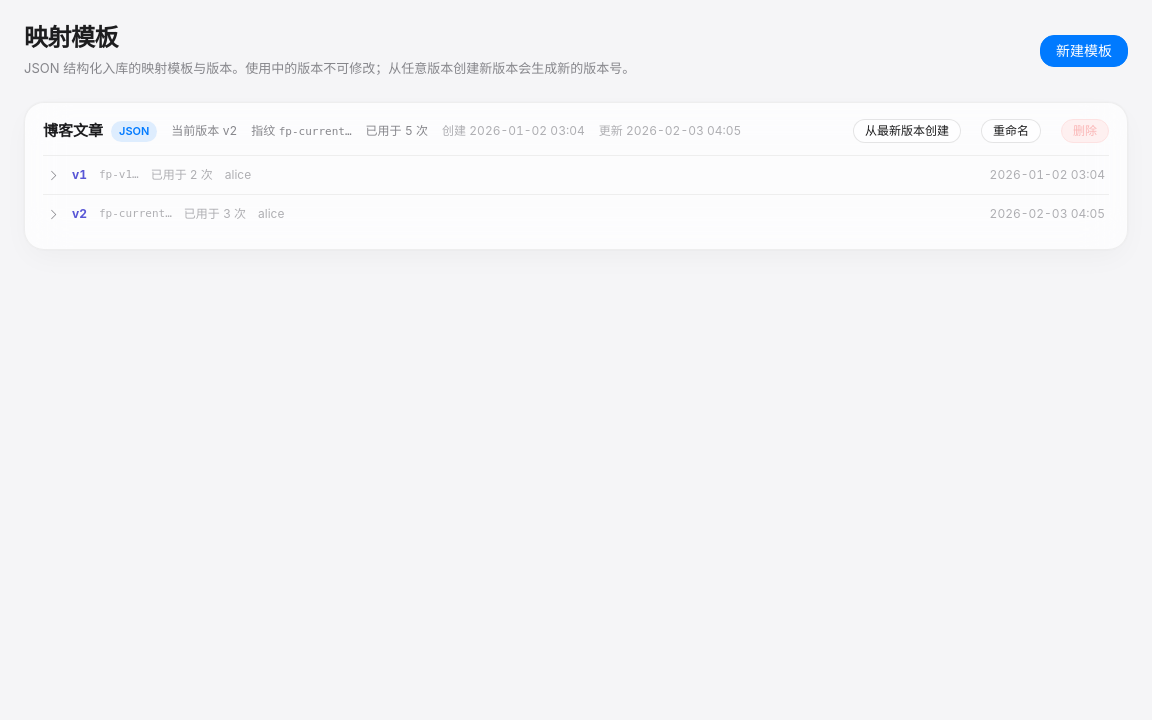
Test case: MappingTemplatesView › expanding a version shows immutable mapping JSON and the field-role summary
Step 1. Click the button "v1 fp-v1… 已用于 2 次 alice 2026-01-02 03:04" → [119, 175], box left=43, top=156, right=1109, bottom=194
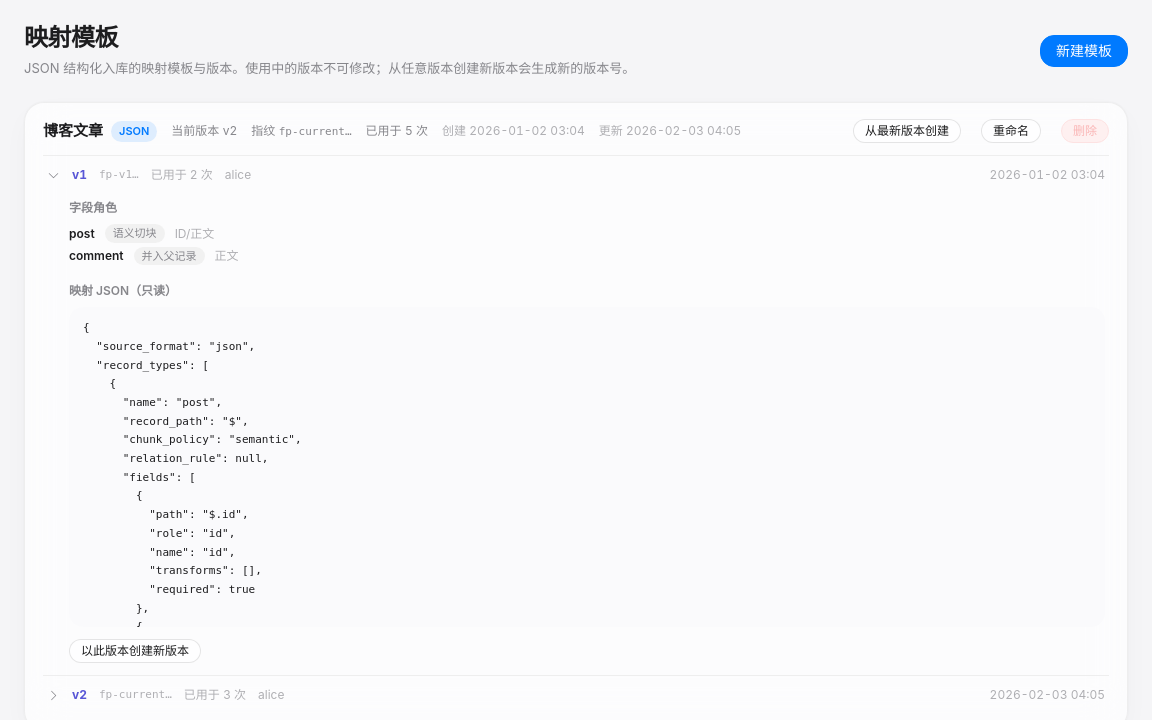
Check: the text "post" is shown, box left=69, top=224, right=95, bottom=242
Check: the text "comment" is shown, box left=69, top=247, right=124, bottom=265
Check: the text "语义切块" is shown, box left=105, top=224, right=165, bottom=243
